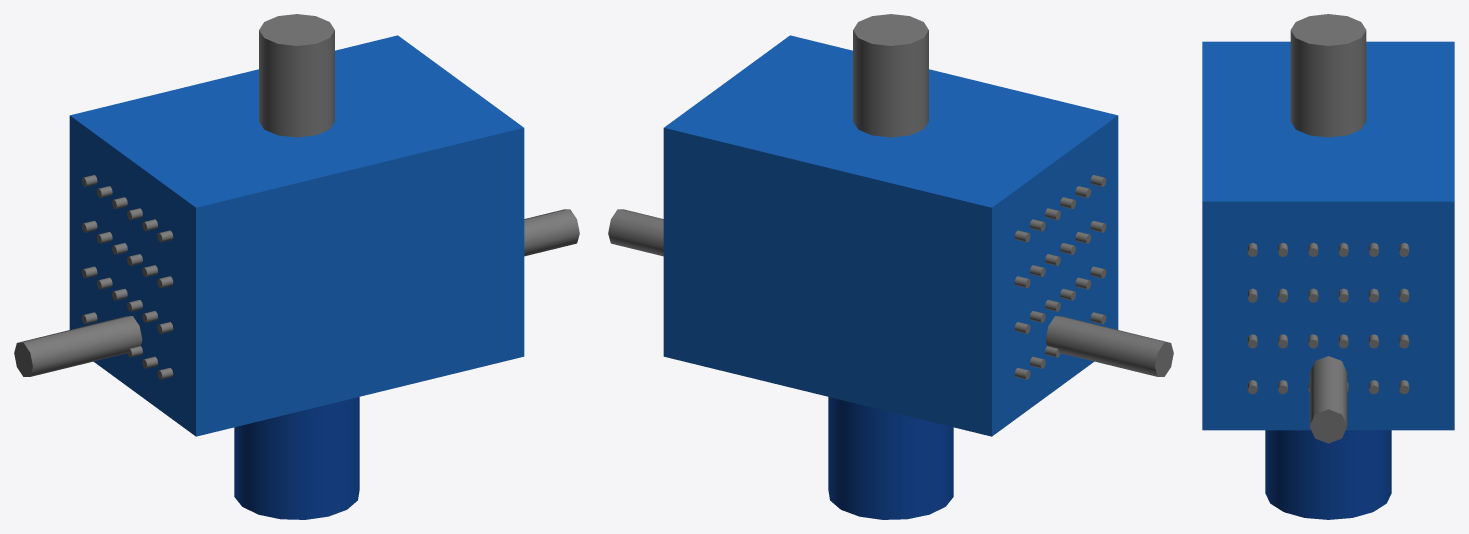
Rendered from condenser.glb.
3 renders of one model, left to right at view 1: azimuth 30°, elevation 25°; view 2: azimuth 150°, elevation 25°; view 3: azimuth 270°, elevation 25°, orthographic.
Size of the model in its own units: 5 by 4.05 by 2.
